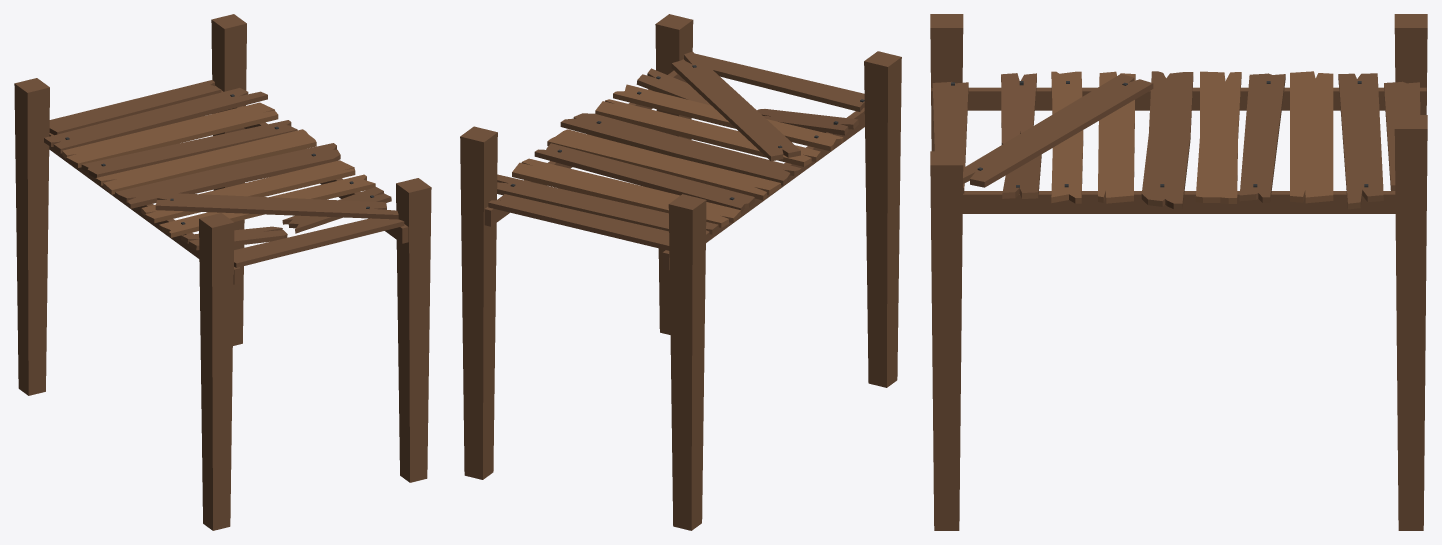
The model's file is Pier_03.fbx.
3 views of the same model, side by side, from view 1: azimuth 30°, elevation 25°; view 2: azimuth 150°, elevation 25°; view 3: azimuth 270°, elevation 25° (orthographic). The views are drawn at different scales.
Parts seen in each view (by area): view 1: Pier_03_LOD0; view 2: Pier_03_LOD0; view 3: Pier_03_LOD0.
Boxes of the visible parts, x1,y1,x2,y2 form: Pier_03_LOD0: (14, 14, 431, 530); Pier_03_LOD0: (460, 14, 901, 530); Pier_03_LOD0: (930, 14, 1427, 530).
Size of what is drawn, in the model's own units: 1.91 by 2.64 by 2.95.
